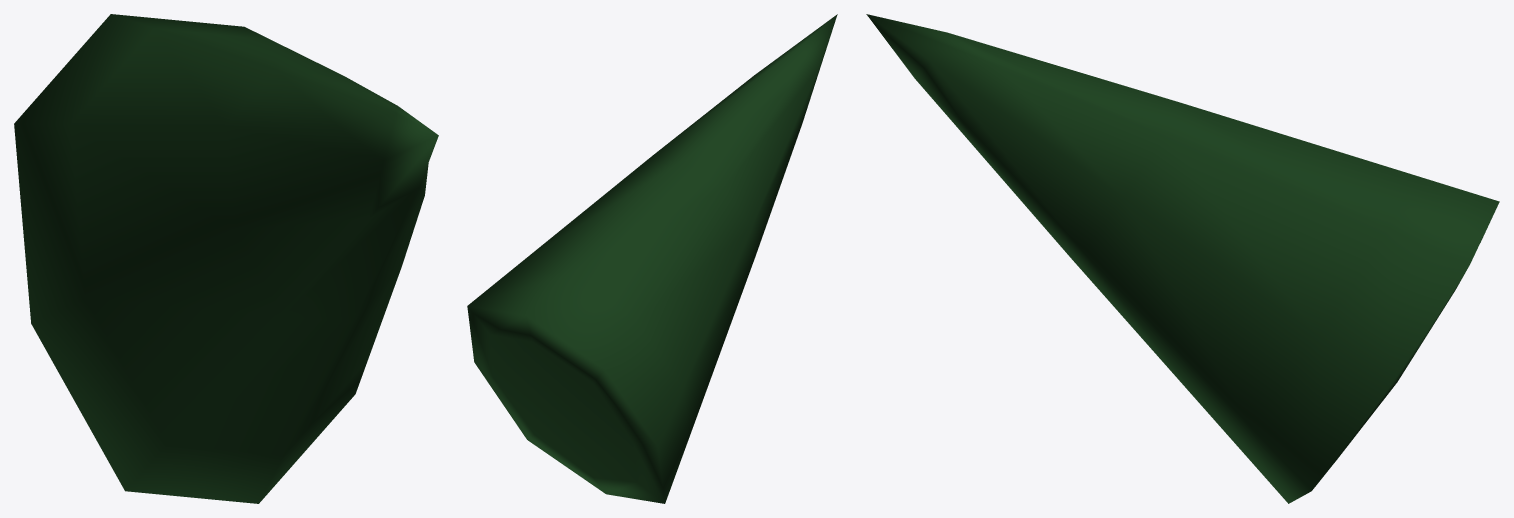
File: Thorn.fbx
The picture shows the model from 3 angles, left to right: view 1: azimuth 30°, elevation 25°; view 2: azimuth 150°, elevation 25°; view 3: azimuth 270°, elevation 25°; orthographic projection. The views are drawn at different scales.
Parts seen in each view (by area): view 1: Thorn; view 2: Thorn; view 3: Thorn.
Boxes of the visible parts, <box> form: Thorn: <box>14,14,438,503</box>; Thorn: <box>467,14,837,503</box>; Thorn: <box>866,14,1499,503</box>.
Bounding box in the file's own units: 31.76 × 59.8 × 75.63.
